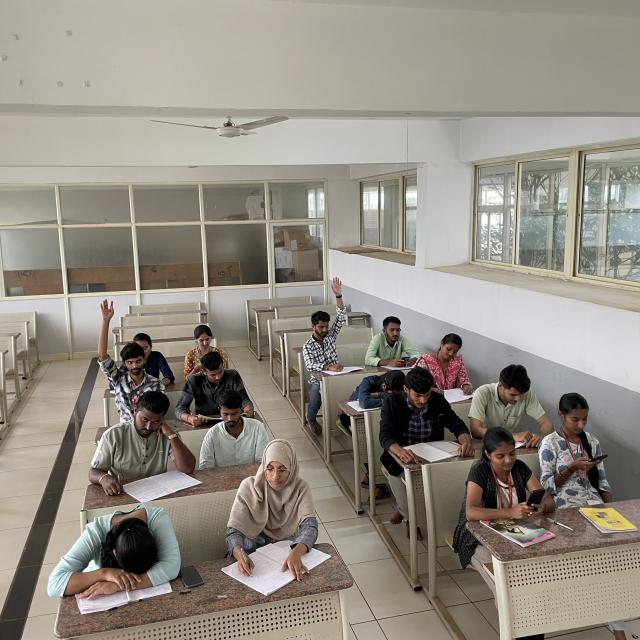Hand Rising: (91, 293, 156, 412), (303, 278, 353, 370)
Reading: (387, 368, 471, 455), (472, 365, 554, 448), (178, 356, 243, 429)
Sleeping: (46, 505, 181, 597), (353, 367, 409, 408)
Using Phone: (466, 422, 555, 520), (546, 392, 612, 501), (177, 318, 234, 376), (367, 316, 423, 364)
Writing: (231, 440, 322, 584), (84, 394, 170, 505), (422, 328, 482, 403)
